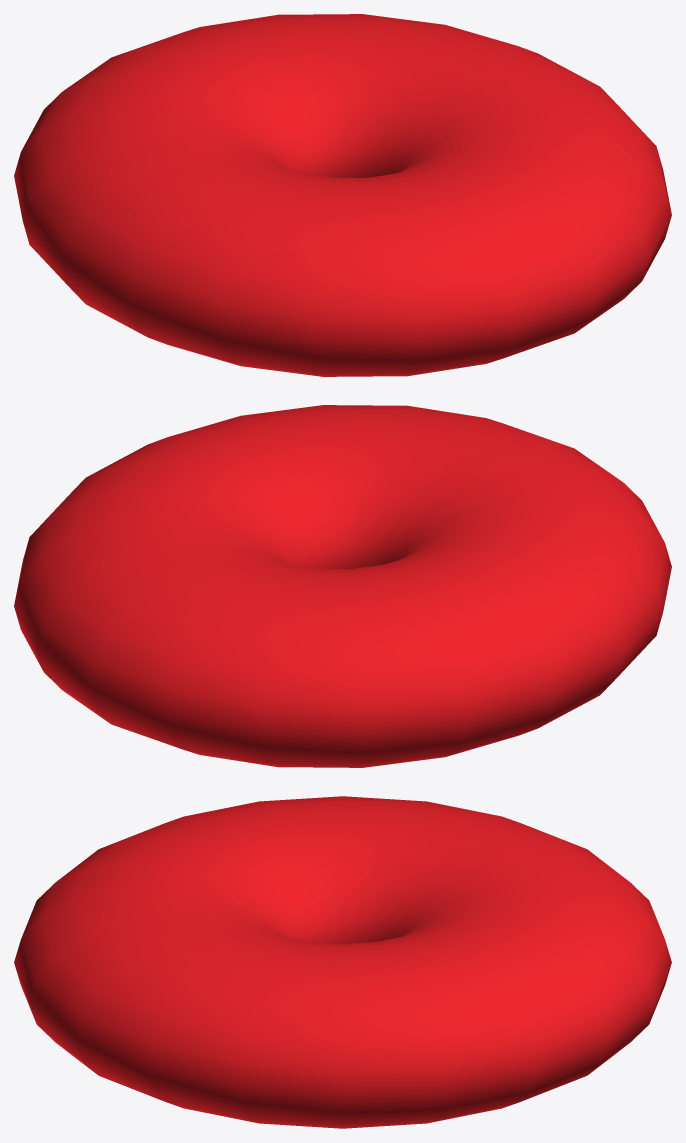
The model's file is ToroideRojo.obj.
3 views of the same model, one above another, from view 1: azimuth 30°, elevation 25°; view 2: azimuth 150°, elevation 25°; view 3: azimuth 270°, elevation 25° (orthographic). The views are drawn at different scales.
Parts seen in each view (by area): view 1: pTorus3; view 2: pTorus3; view 3: pTorus3.
Part boxes in pixels (x1,y1,x2,y2): pTorus3: (14,14,671,376); pTorus3: (14,405,671,767); pTorus3: (14,796,671,1128).
Size of the model in its own units: 4.07 by 1.09 by 4.39.
Materials: 1 (1 with a texture image).
